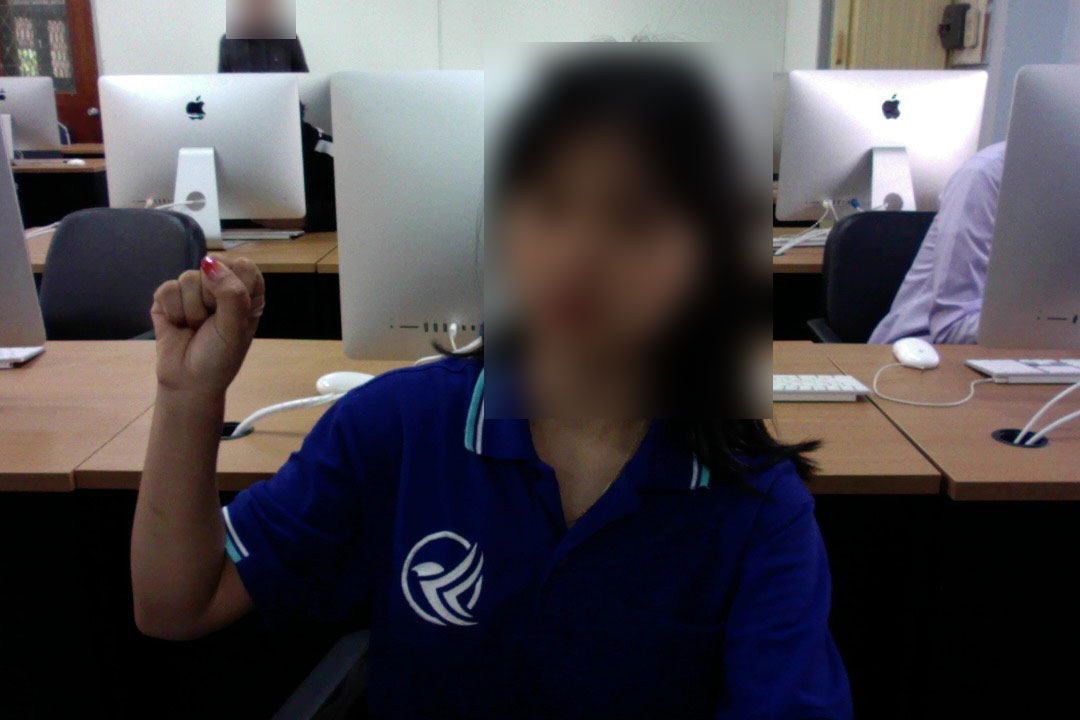sor: (139, 246, 272, 393)
